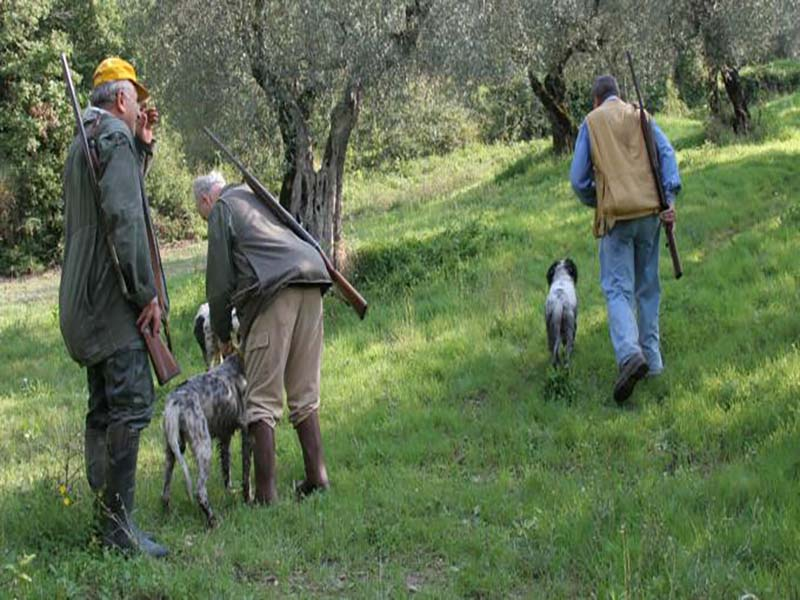cacciatore: (49, 42, 168, 570), (193, 122, 345, 506), (579, 49, 686, 405)
cane da caccia: (156, 347, 242, 522), (541, 249, 587, 378)
